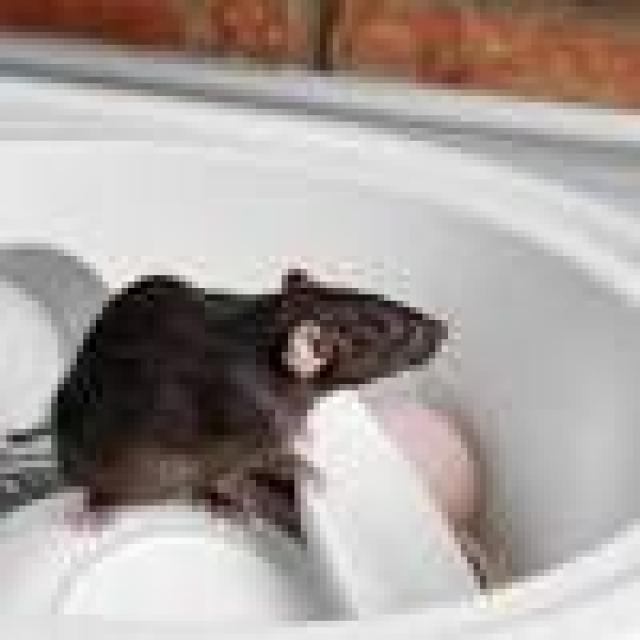rat: (40, 264, 451, 532)
